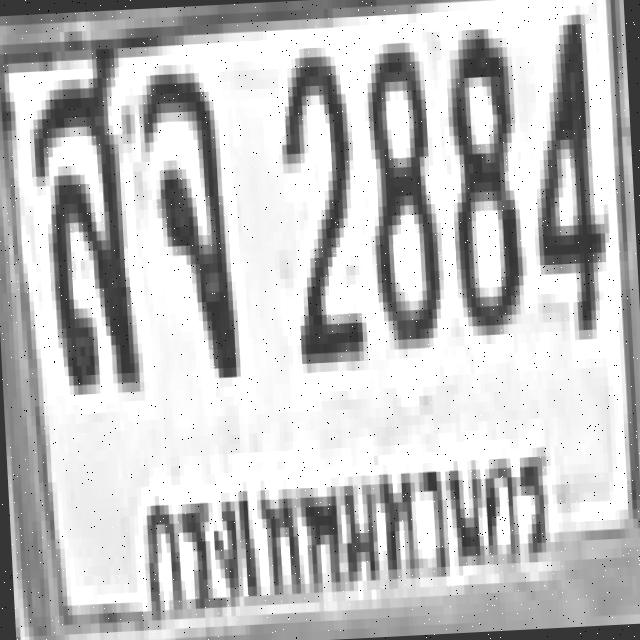17ChorChan: (139, 62, 234, 372)
2: (274, 37, 362, 355)
4: (522, 5, 606, 332)
49SorSuea: (25, 39, 135, 387)
8: (360, 32, 438, 340), (444, 19, 522, 327)
Bangkok: (119, 409, 564, 612)
